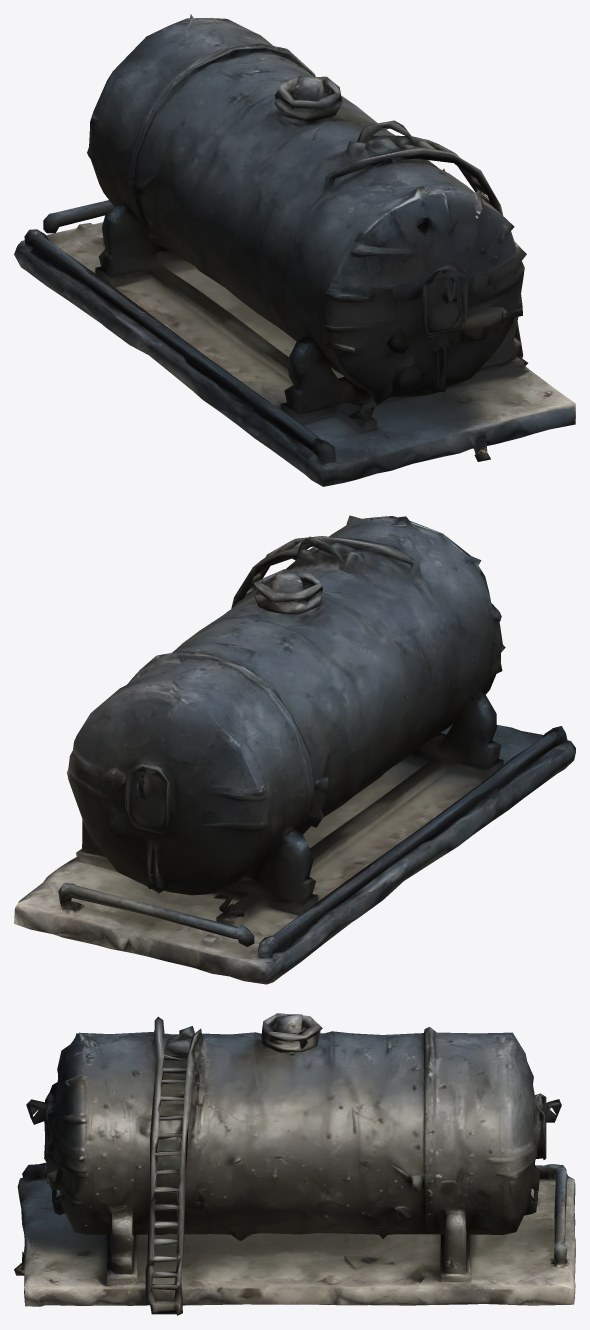
File: xd_fueltank.glb
3 renders of one model, top to bottom at view 1: azimuth 30°, elevation 25°; view 2: azimuth 150°, elevation 25°; view 3: azimuth 270°, elevation 25°, orthographic. The views are drawn at different scales.
Visible parts, largest first — view 1: tripo_node_ef22e4b8-820f-4e40-83f9-66bc9c315c6c; view 2: tripo_node_ef22e4b8-820f-4e40-83f9-66bc9c315c6c; view 3: tripo_node_ef22e4b8-820f-4e40-83f9-66bc9c315c6c.
Part boxes in pixels (box(x1,y1,x2,y2)): tripo_node_ef22e4b8-820f-4e40-83f9-66bc9c315c6c: box(14, 14, 575, 486); tripo_node_ef22e4b8-820f-4e40-83f9-66bc9c315c6c: box(14, 515, 575, 984); tripo_node_ef22e4b8-820f-4e40-83f9-66bc9c315c6c: box(14, 1013, 575, 1315).
Bounding box in the file's own units: 0.5204 × 0.4848 × 1.
Materials: 1 (1 with a texture image).
